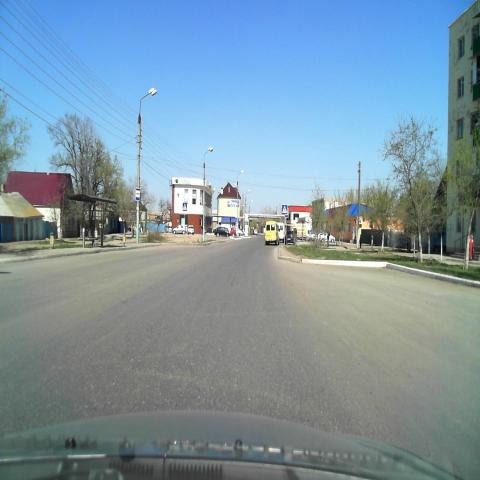5_16: (136, 187, 140, 201)
5_19_1: (183, 201, 188, 211), (282, 204, 287, 214)
